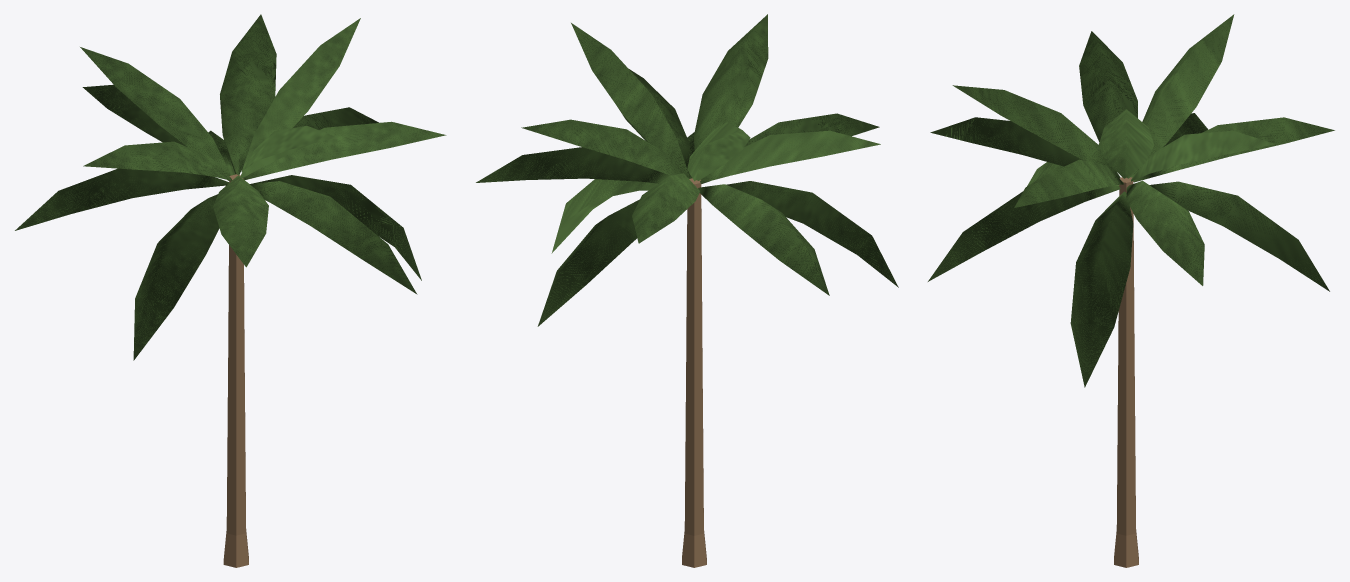
3 renders of one model, left to right at view 1: azimuth 30°, elevation 25°; view 2: azimuth 150°, elevation 25°; view 3: azimuth 270°, elevation 25°, orthographic.
Parts seen in each view (by area): view 1: Prop_5; view 2: Prop_5; view 3: Prop_5.
Boxes of the visible parts, x1=… form: Prop_5: x1=15, y1=14, x2=446, y2=567; Prop_5: x1=476, y1=14, x2=898, y2=567; Prop_5: x1=928, y1=14, x2=1334, y2=567.
Bounding box in the file's own units: 8.58 × 11.64 × 8.42.
